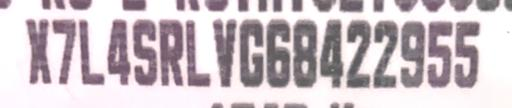letter: (20, 16, 52, 84), (130, 15, 160, 87), (156, 16, 186, 88), (183, 17, 213, 89), (452, 19, 482, 89), (263, 16, 291, 88), (210, 17, 238, 89), (344, 17, 372, 89), (50, 17, 78, 87), (290, 17, 318, 87), (318, 17, 346, 87), (371, 18, 399, 88), (426, 18, 454, 88), (398, 19, 426, 89), (106, 17, 134, 85), (78, 18, 106, 86), (238, 17, 264, 87)
